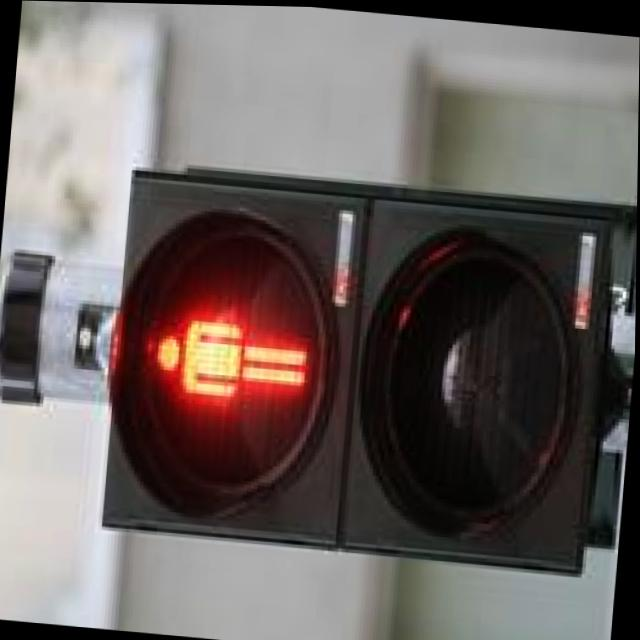red_light: (87, 162, 397, 575)
